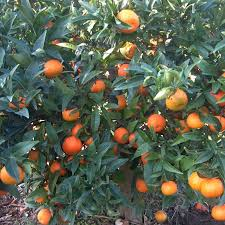orange: (108, 7, 142, 37), (165, 85, 193, 110), (62, 135, 83, 154), (160, 178, 181, 196)
